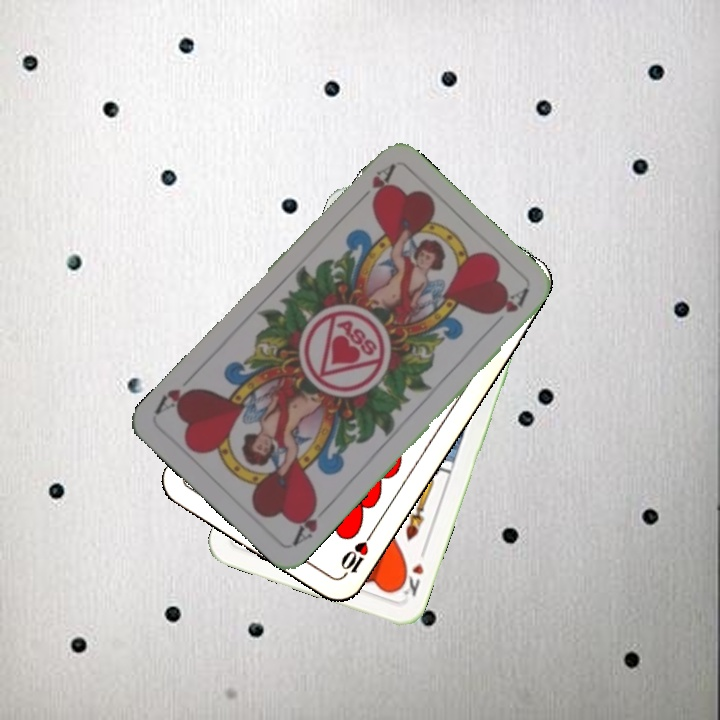H10: (336, 527, 376, 580)
HA: (289, 496, 333, 548), (351, 160, 398, 208)
HK: (394, 559, 427, 599)
